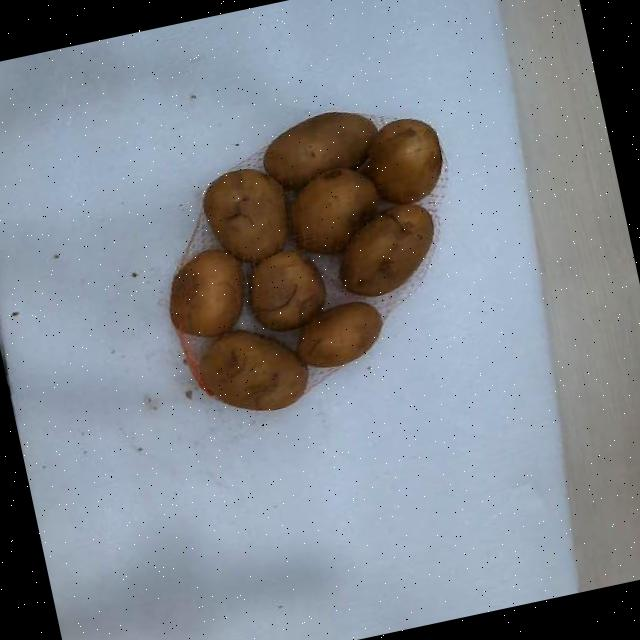potato: (198, 330, 307, 410), (263, 111, 376, 188), (339, 204, 432, 297), (204, 168, 287, 262), (290, 168, 378, 253), (363, 118, 442, 204), (170, 249, 243, 337), (249, 250, 325, 331), (295, 302, 382, 367)
